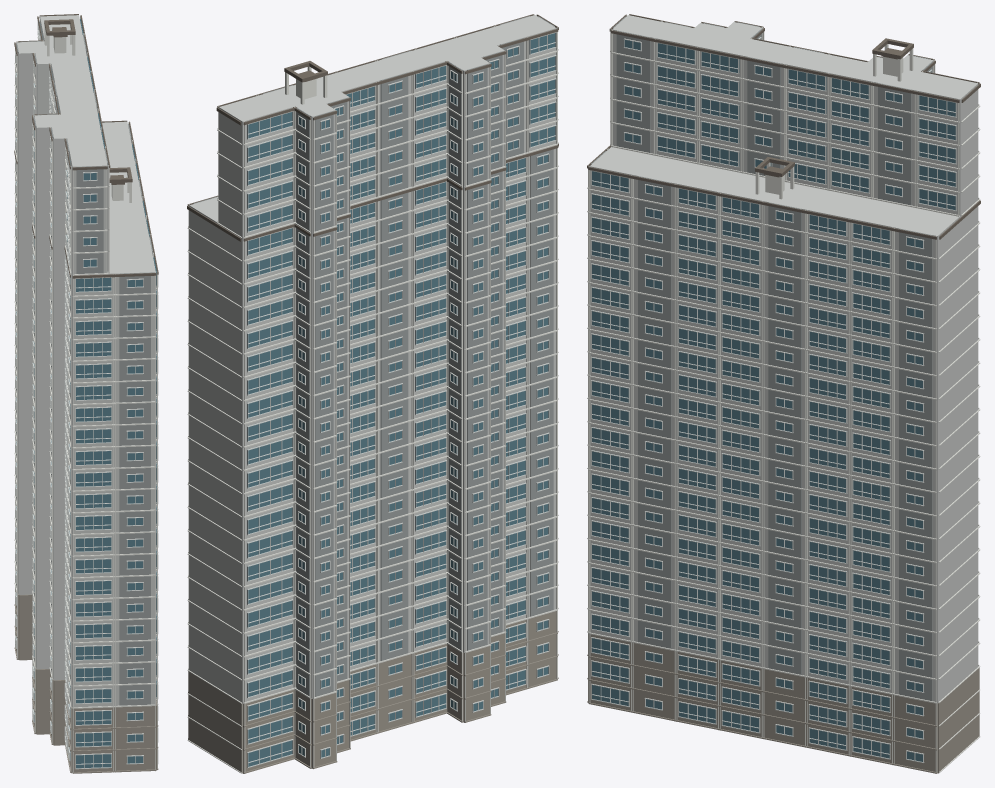
Rendered from bespoke-banpo-xi-134.glb.
3 views of the same model, side by side, from view 1: azimuth 30°, elevation 25°; view 2: azimuth 150°, elevation 25°; view 3: azimuth 270°, elevation 25° (orthographic). The views are drawn at different scales.
Visible parts, largest first — view 1: editable_BX134_pale_silver_limestone, editable_BX134_grey_service_core, editable_BX134_ivory_course_bands, editable_BX134_blue_grey_broad_glazing, editable_BX134_white_window_frames, editable_BX134_warm_ground_stone, editable_BX134_dark_coping; view 2: editable_BX134_pale_silver_limestone, editable_BX134_blue_grey_broad_glazing, editable_BX134_grey_service_core, editable_BX134_white_window_frames, editable_BX134_ivory_course_bands, editable_BX134_warm_ground_stone, editable_BX134_dark_coping; view 3: editable_BX134_pale_silver_limestone, editable_BX134_blue_grey_broad_glazing, editable_BX134_white_window_frames, editable_BX134_grey_service_core, editable_BX134_ivory_course_bands, editable_BX134_warm_ground_stone, editable_BX134_dark_coping.
Part boxes in pixels (bbox=[...]): editable_BX134_pale_silver_limestone: bbox=[17, 15, 155, 772]; editable_BX134_grey_service_core: bbox=[16, 36, 152, 706]; editable_BX134_ivory_course_bands: bbox=[14, 15, 158, 773]; editable_BX134_blue_grey_broad_glazing: bbox=[16, 19, 156, 768]; editable_BX134_white_window_frames: bbox=[15, 21, 158, 769]; editable_BX134_warm_ground_stone: bbox=[14, 589, 158, 773]; editable_BX134_dark_coping: bbox=[14, 14, 158, 278]; editable_BX134_pale_silver_limestone: bbox=[189, 15, 556, 772]; editable_BX134_blue_grey_broad_glazing: bbox=[247, 33, 555, 766]; editable_BX134_grey_service_core: bbox=[193, 16, 554, 696]; editable_BX134_white_window_frames: bbox=[247, 32, 556, 767]; editable_BX134_ivory_course_bands: bbox=[187, 14, 558, 773]; editable_BX134_warm_ground_stone: bbox=[188, 611, 558, 773]; editable_BX134_dark_coping: bbox=[187, 14, 558, 241]; editable_BX134_pale_silver_limestone: bbox=[589, 15, 978, 772]; editable_BX134_blue_grey_broad_glazing: bbox=[592, 40, 955, 761]; editable_BX134_white_window_frames: bbox=[591, 37, 956, 762]; editable_BX134_grey_service_core: bbox=[591, 16, 932, 700]; editable_BX134_ivory_course_bands: bbox=[587, 14, 980, 772]; editable_BX134_warm_ground_stone: bbox=[587, 633, 979, 773]; editable_BX134_dark_coping: bbox=[587, 14, 980, 239].
Size of the model in its own units: 26.36 by 78.5 by 41.2.
